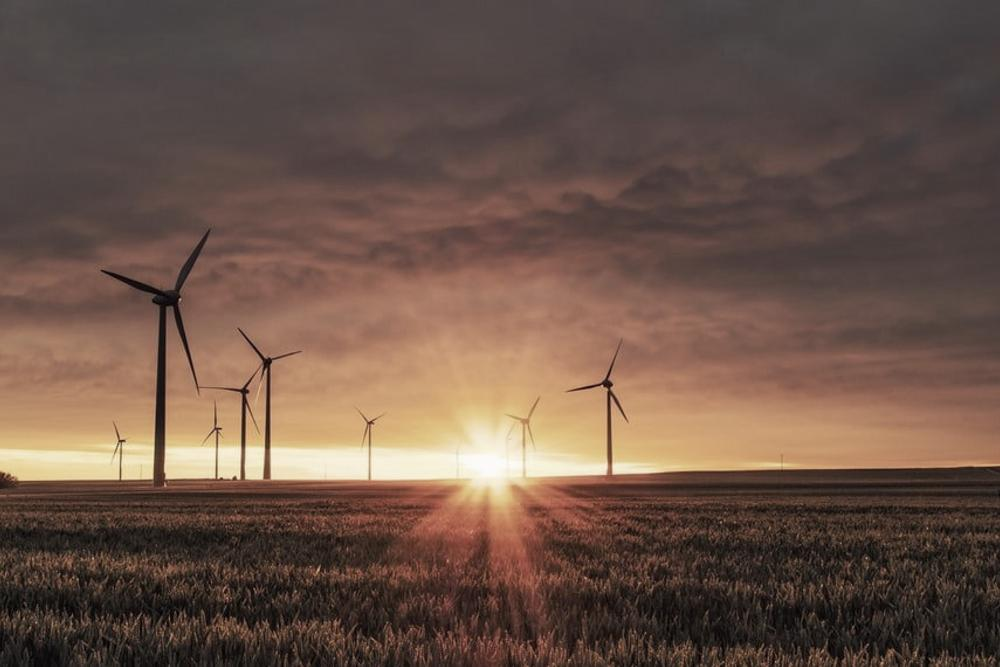working: (90, 224, 218, 411), (558, 335, 646, 456)
